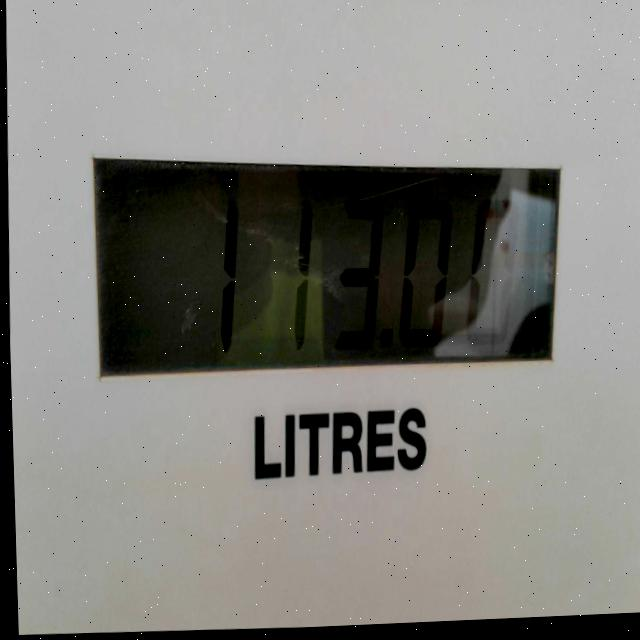.: (373, 318, 400, 371)
0: (387, 190, 462, 366), (458, 186, 530, 365)
1: (197, 180, 253, 365), (263, 203, 323, 359)
3: (316, 183, 389, 364)
